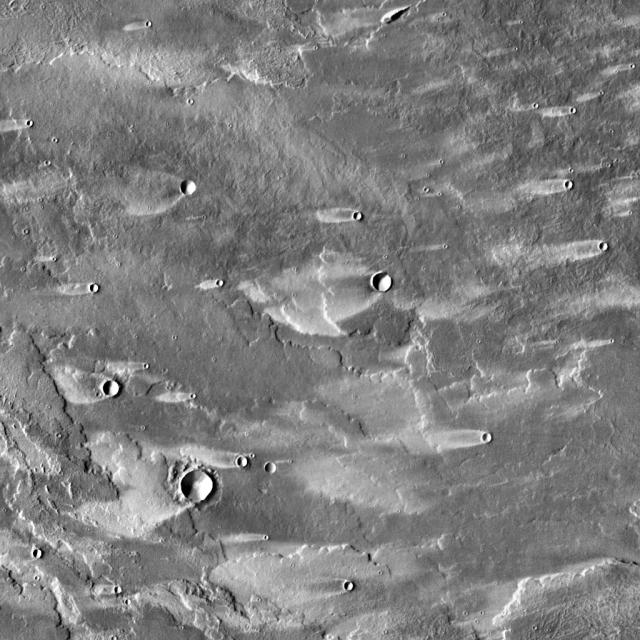crater: (190, 471, 222, 501), (380, 270, 400, 290), (189, 178, 205, 194), (111, 382, 127, 398), (246, 457, 257, 468), (274, 462, 284, 473), (354, 580, 363, 590), (491, 432, 500, 442), (573, 182, 581, 190), (609, 244, 617, 252), (42, 552, 50, 560), (99, 286, 107, 294), (123, 586, 131, 594), (354, 205, 362, 212)
